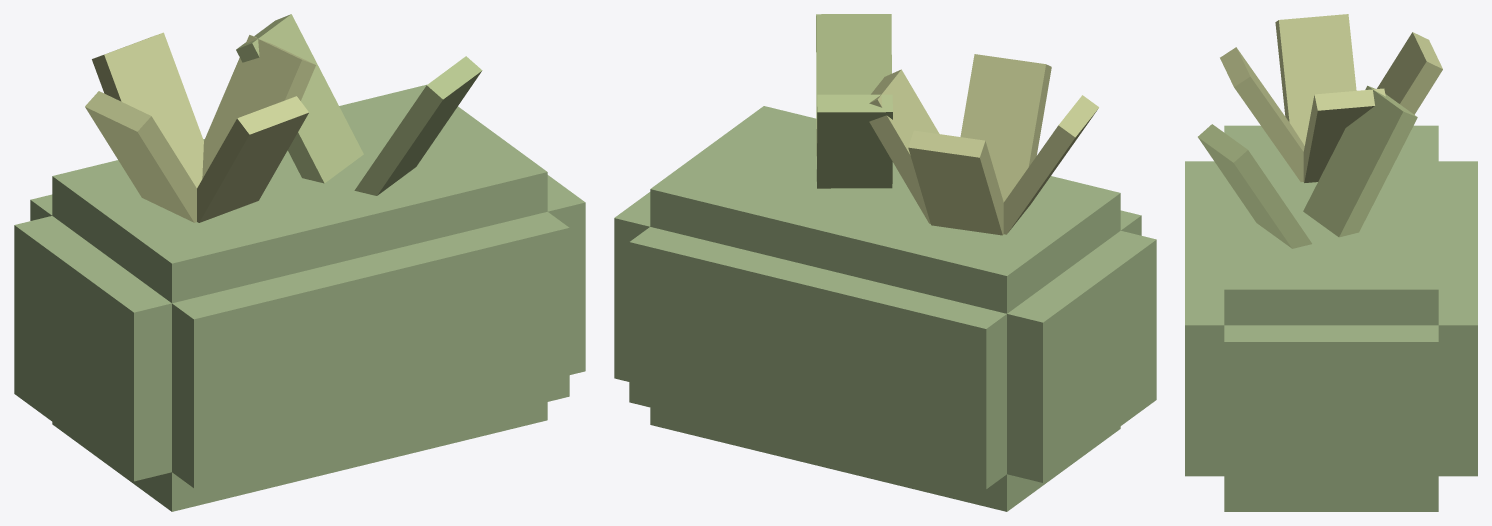
File: Bush_Rect.glb
The picture shows the model from 3 angles, left to right: view 1: azimuth 30°, elevation 25°; view 2: azimuth 150°, elevation 25°; view 3: azimuth 270°, elevation 25°; orthographic projection. The views are drawn at different scales.
Parts seen in each view (by area): view 1: geometry_0; view 2: geometry_0; view 3: geometry_0.
Part boxes in pixels (bbox=[...]): geometry_0: bbox=[14, 14, 585, 511]; geometry_0: bbox=[614, 14, 1156, 511]; geometry_0: bbox=[1185, 14, 1477, 511].
Size of the model in its own units: 1.18 by 0.9269 by 0.74.
